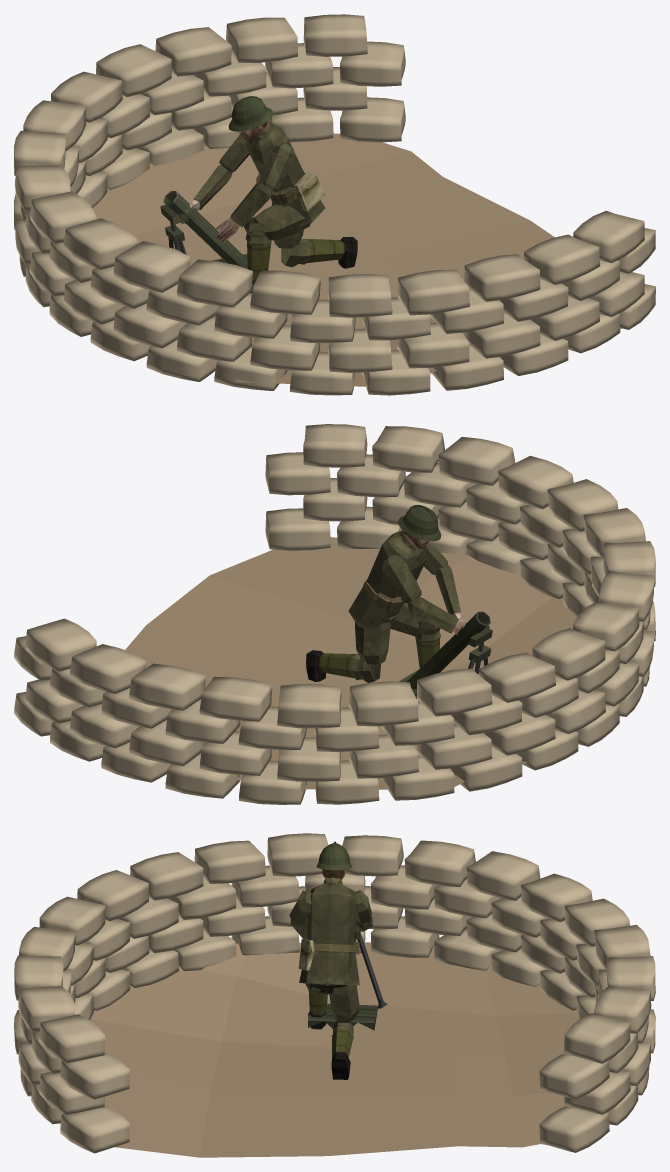
Rendered from mortar_pit.glb.
The picture shows the model from 3 angles, top to bottom: view 1: azimuth 30°, elevation 25°; view 2: azimuth 150°, elevation 25°; view 3: azimuth 270°, elevation 25°; orthographic projection. The views are drawn at different scales.
Visible parts, largest first — view 1: mortar_pit; view 2: mortar_pit; view 3: mortar_pit.
Part boxes in pixels (x1,y1,x2,y2): mortar_pit: (14, 14, 655, 395); mortar_pit: (14, 424, 655, 804); mortar_pit: (14, 833, 655, 1157).
Size of the model in its own units: 1.53 by 0.6636 by 1.88.
Materials: 3 (1 with a texture image).
